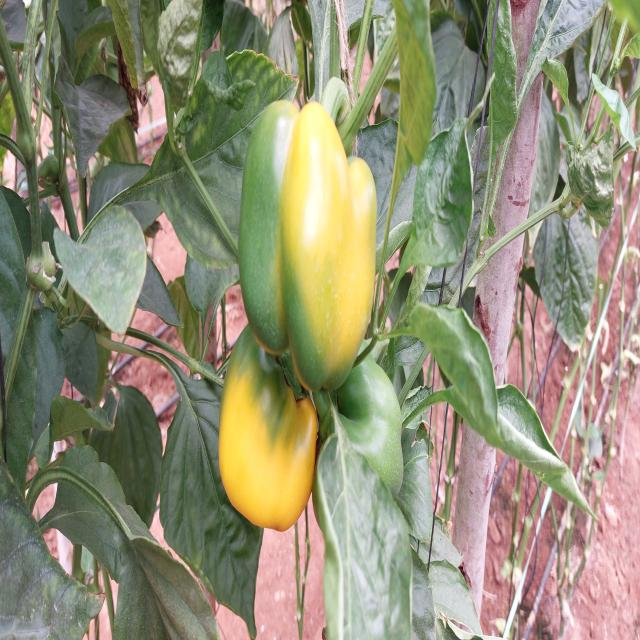GreenishYellow--Can-be-Harvested: (228, 88, 394, 382), (189, 289, 327, 559)
